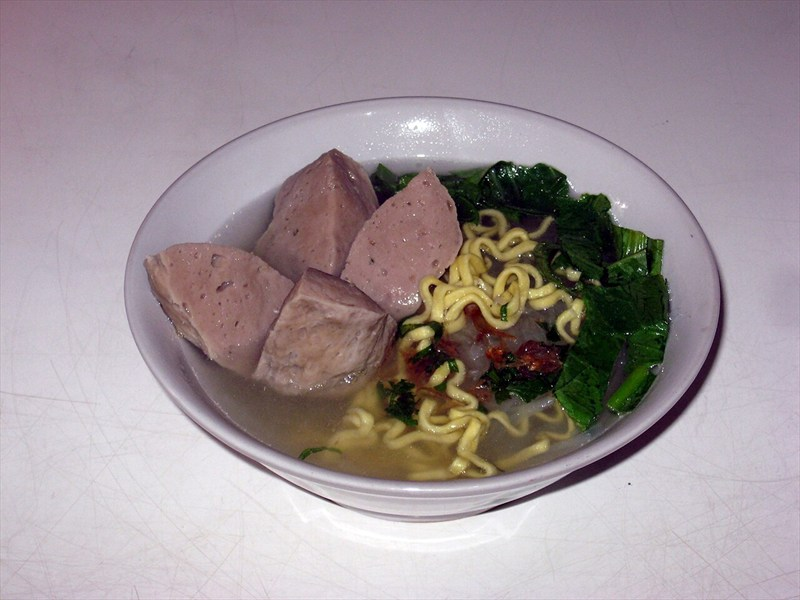Bakso: (207, 154, 688, 486)
